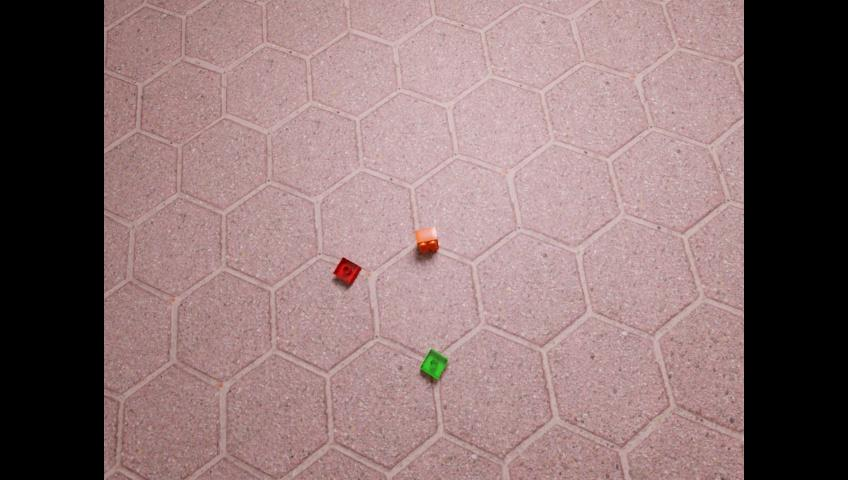2x2_green: (420, 348, 447, 378)
2x2_red: (332, 256, 360, 283)
4x2_orange: (414, 226, 438, 252)
